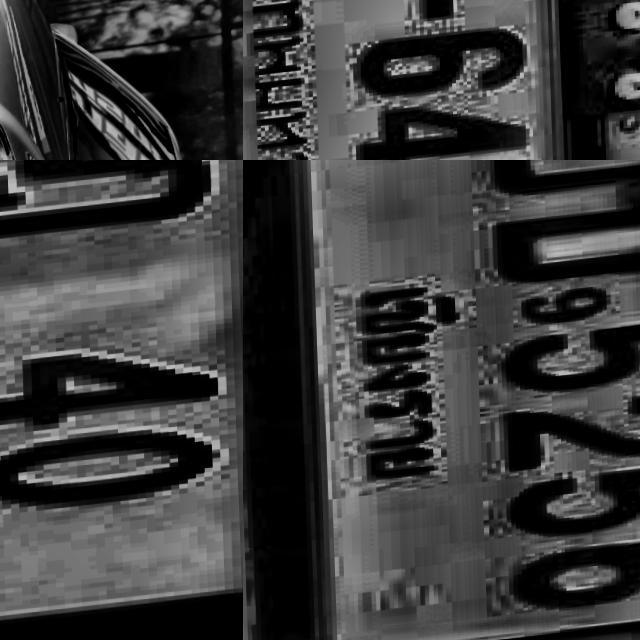license-plate: (281, 160, 640, 640), (0, 160, 243, 640), (243, 0, 570, 160)
